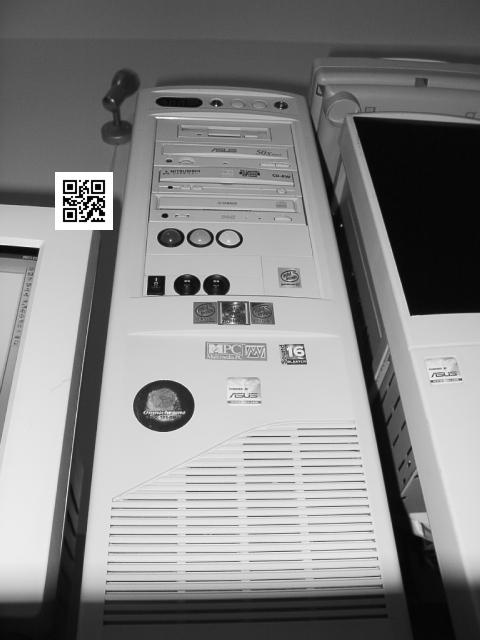qr_code: (55, 171, 112, 230)
